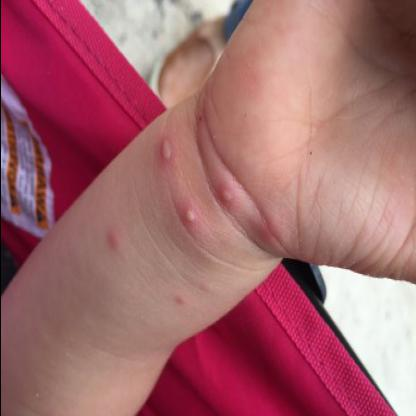Fire ant: (252, 216, 280, 249), (152, 134, 178, 166), (176, 204, 204, 232), (217, 182, 240, 212), (104, 225, 126, 253), (172, 292, 188, 310)
